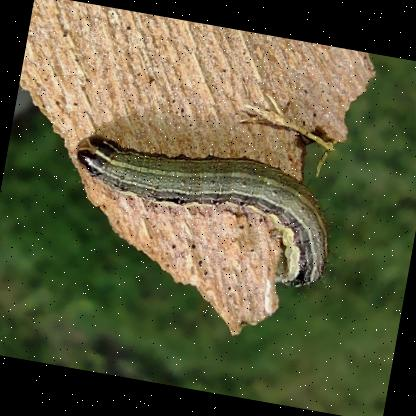Fall Armyworm Larvae: (52, 121, 359, 306)
